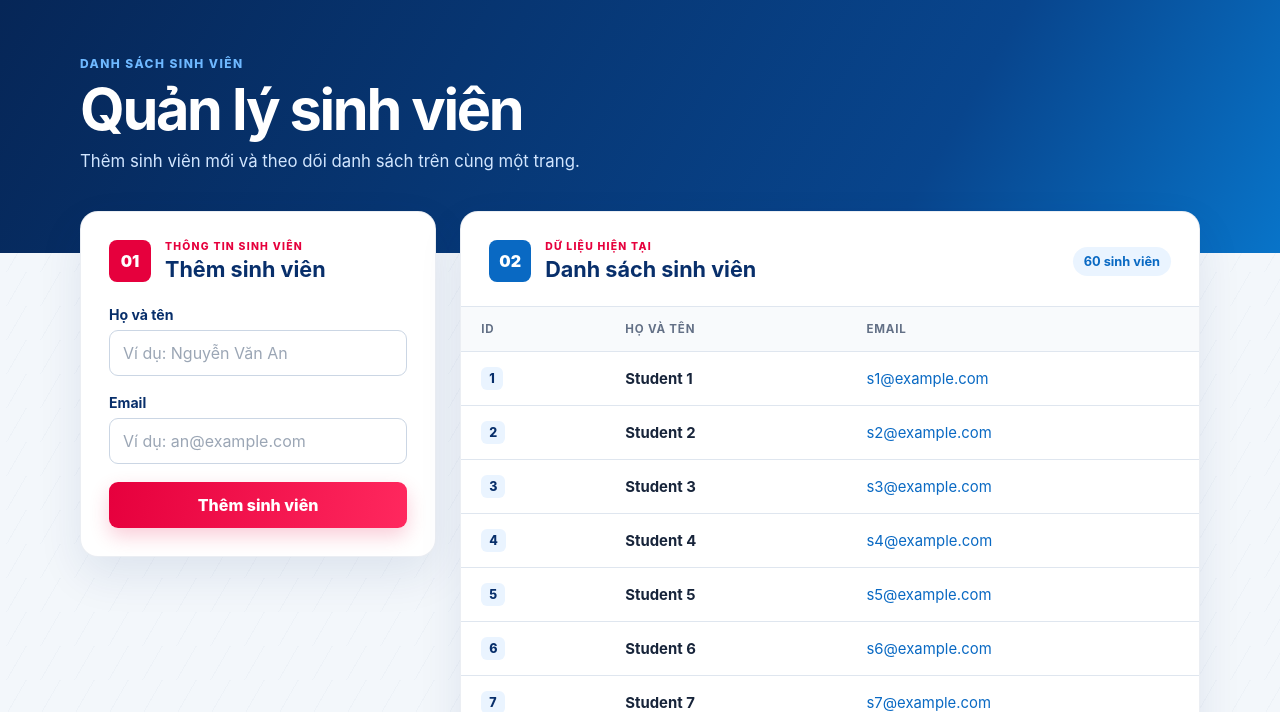
it: adding the 61st student creates and selects a new page
The width and height of the screenshot is (1280, 712).
Expected: the text "60 sinh viên" is shown, top-left (1073, 247), bottom-right (1171, 276)
Type "Nguyễn Văn An" into the field labelled "Họ và tên".
click(258, 354); type("Nguyễn Văn An")  # box top-left (109, 330), bottom-right (407, 376)
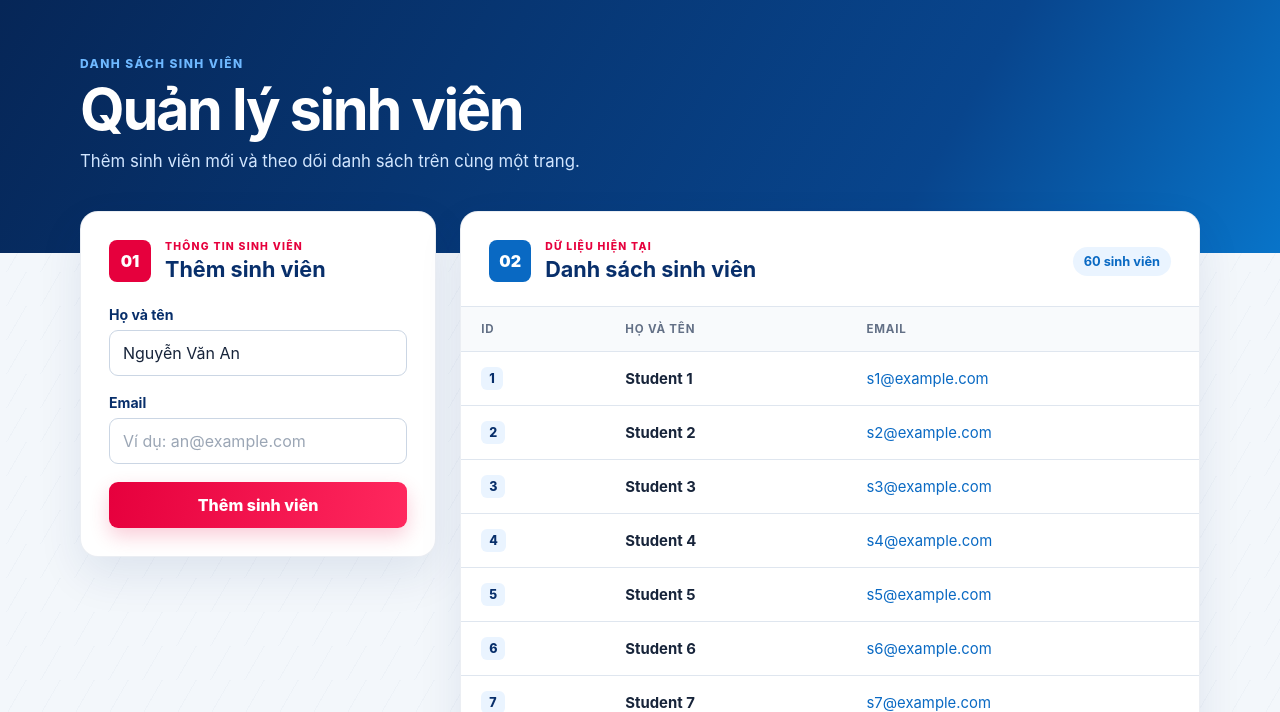
Type "an@example.com" into the field labelled "Email".
click(258, 442); type("an@example.com")  # box top-left (109, 418), bottom-right (407, 464)
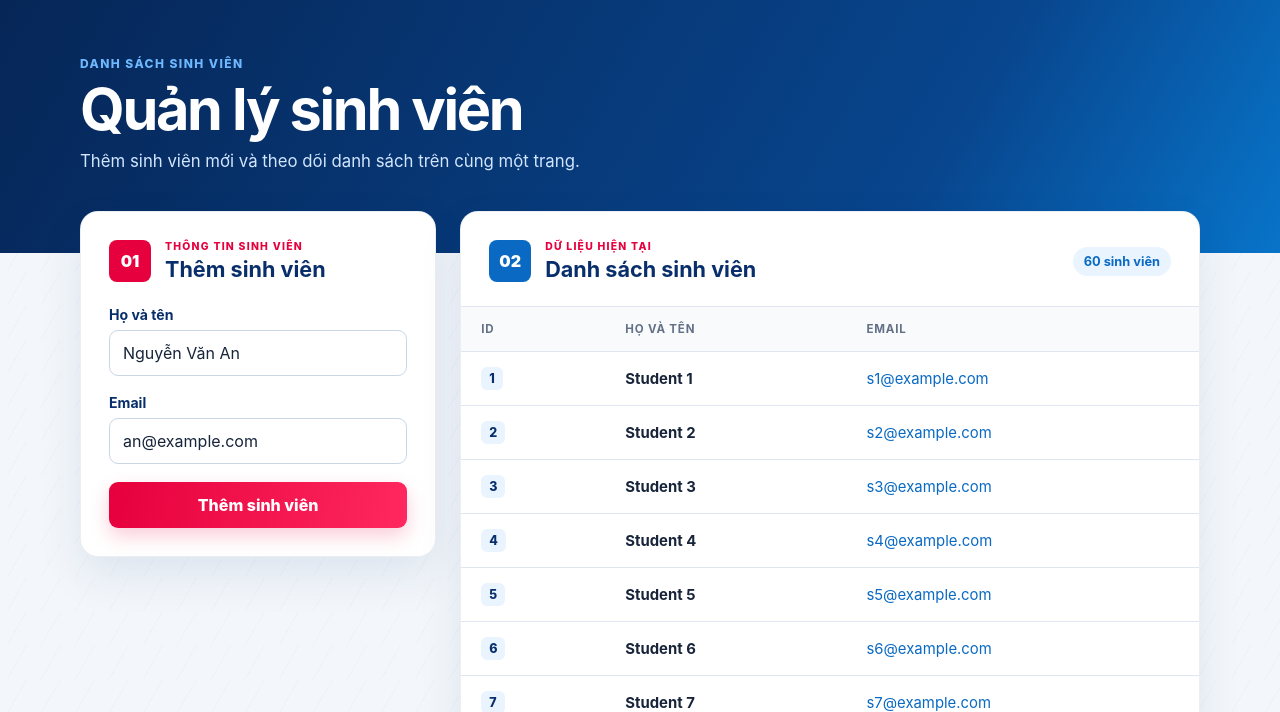
Submit the form "Thêm sinh viên", box top-left (109, 306), bottom-right (407, 528)
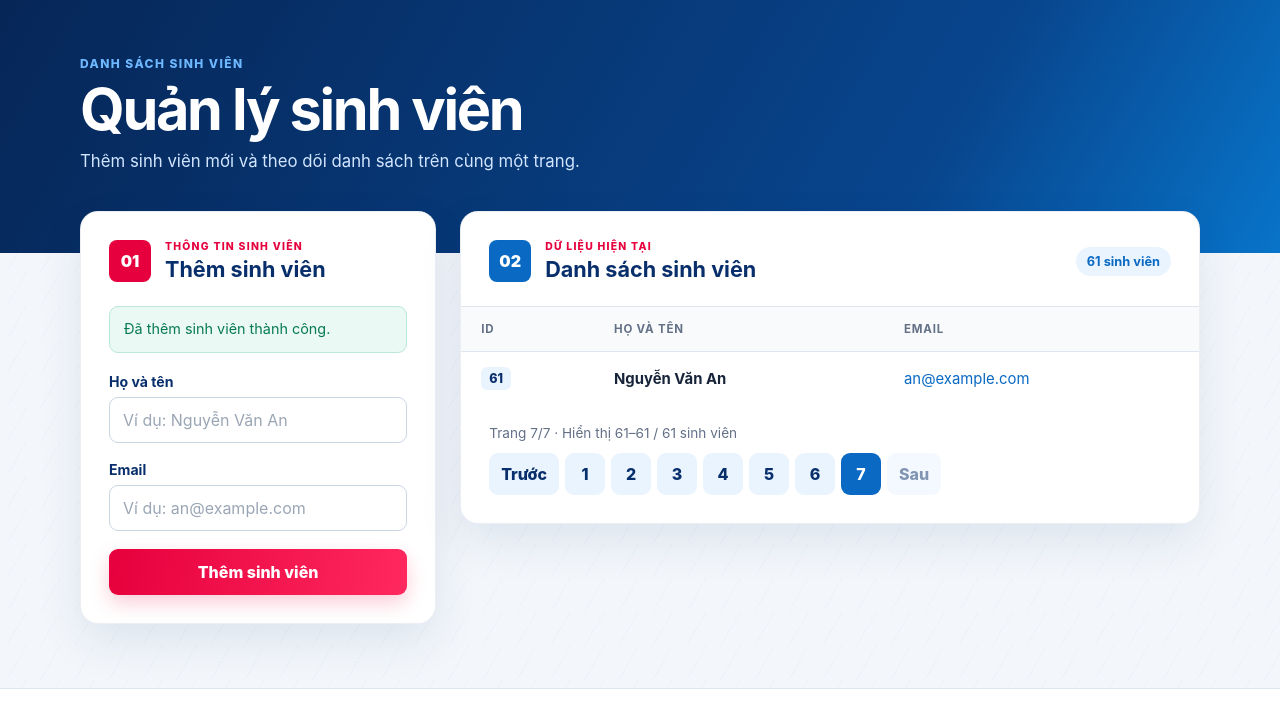
Expected: the text "Trang 7/7 · Hiển thị 61–61 / 61 sinh viên" is shown, top-left (489, 426), bottom-right (737, 442)
Expected: the number of rows is 2, top-left (461, 307), bottom-right (1199, 352); top-left (461, 352), bottom-right (1199, 406)
